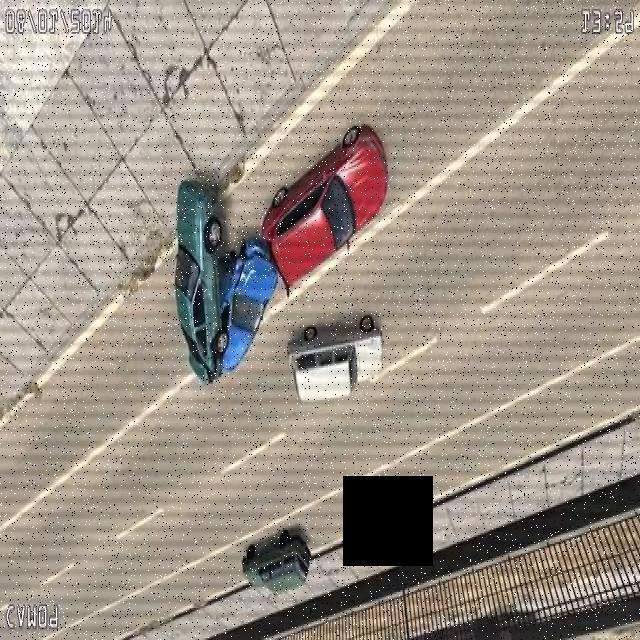vehicle: (243, 119, 398, 368), (167, 158, 257, 372)
